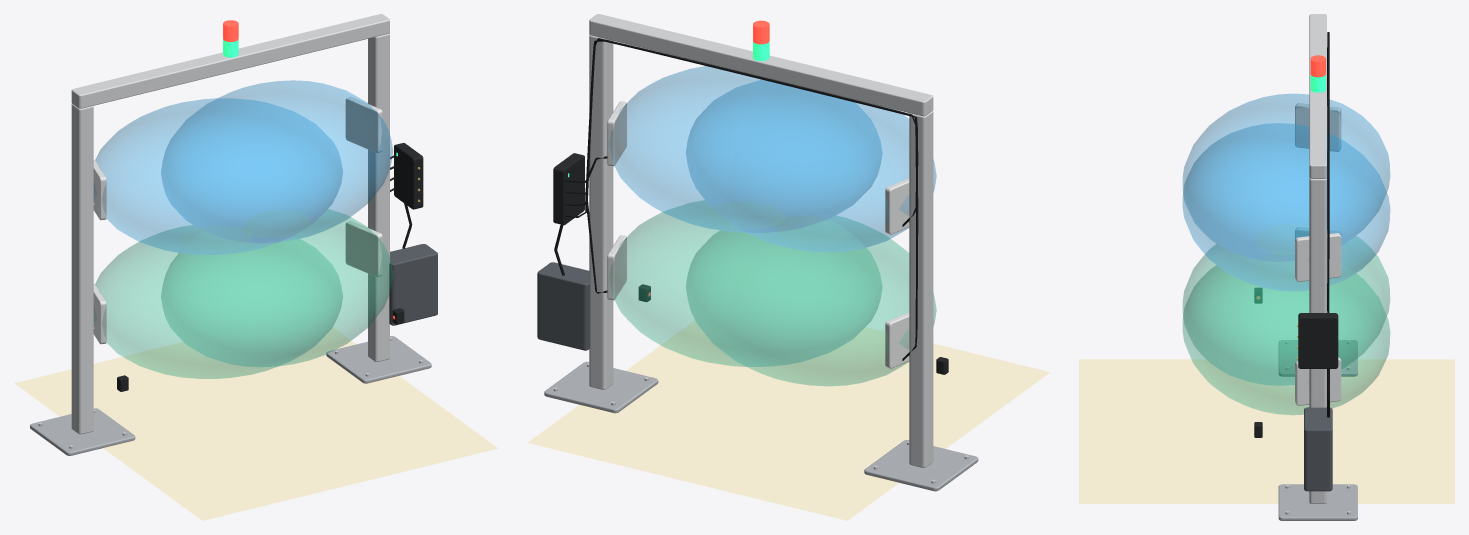
The model's file is p6-Bramka UHF – strefa odczytu.glb.
3 views of the same model, side by side, from view 1: azimuth 30°, elevation 25°; view 2: azimuth 150°, elevation 25°; view 3: azimuth 270°, elevation 25° (orthographic). The views are drawn at different scales.
Visible parts, largest first — view 1: Strefa odczytu (przybliżona), 2. Słup lewy, 4. Belka górna, 2. Słup prawy, Antena panelowa UHF (polaryzacja kołowa) (×4), 6. Skrzynka sterująca (zasilacz, PLC, sieć), 1. Podstawa lewa, 1. Podstawa prawa, 5. Czytnik UHF (4 porty), 9. Lampa sygnalizacyjna; view 2: Strefa odczytu (przybliżona), 2. Słup lewy, 4. Belka górna, 2. Słup prawy, Antena panelowa UHF (polaryzacja kołowa) (×4), 6. Skrzynka sterująca (zasilacz, PLC, sieć), 7. Kable antenowe (koncentryczne), 1. Podstawa lewa, 1. Podstawa prawa, 5. Czytnik UHF (4 porty), 9. Lampa sygnalizacyjna; view 3: Strefa odczytu (przybliżona), Antena panelowa UHF (polaryzacja kołowa) (×3), 2. Słup prawy, 1. Podstawa prawa, 4. Belka górna, 6. Skrzynka sterująca (zasilacz, PLC, sieć), 5. Czytnik UHF (4 porty), 1. Podstawa lewa, 7. Kable antenowe (koncentryczne), 9. Lampa sygnalizacyjna.
Boxes of the visible parts, x1,y1,x2,y2 form: Strefa odczytu (przybliżona): (15,80,497,520); 2. Słup lewy: (71,104,93,434); 4. Belka górna: (71,14,389,108); 2. Słup prawy: (368,33,389,362); Antena panelowa UHF (polaryzacja kołowa) (×4): (93,97,382,344); 6. Skrzynka sterująca (zasilacz, PLC, sieć): (389,244,437,325); 1. Podstawa lewa: (30,408,135,455); 1. Podstawa prawa: (326,336,431,383); 5. Czytnik UHF (4 porty): (394,143,423,209); 9. Lampa sygnalizacyjna: (223,20,238,57); Strefa odczytu (przybliżona): (528,66,1049,520); 2. Słup lewy: (909,111,933,467); 4. Belka górna: (589,14,933,116); 2. Słup prawy: (589,35,613,389); Antena panelowa UHF (polaryzacja kołowa) (×4): (607,101,909,368); 6. Skrzynka sterująca (zasilacz, PLC, sieć): (537,262,589,350); 7. Kable antenowe (koncentryczne): (554,38,918,360); 1. Podstawa lewa: (864,440,978,491); 1. Podstawa prawa: (544,361,658,413); 5. Czytnik UHF (4 porty): (553,153,584,225); 9. Lampa sygnalizacyjna: (753,20,769,61); Strefa odczytu (przybliżona): (1079,94,1454,503); Antena panelowa UHF (polaryzacja kołowa) (×3): (1295,103,1341,405); 2. Słup prawy: (1309,178,1326,503); 1. Podstawa prawa: (1278,484,1357,520); 4. Belka górna: (1309,14,1326,178); 6. Skrzynka sterująca (zasilacz, PLC, sieć): (1304,407,1332,491); 5. Czytnik UHF (4 porty): (1297,313,1338,368); 1. Podstawa lewa: (1279,340,1357,376); 7. Kable antenowe (koncentryczne): (1327,32,1329,417); 9. Lampa sygnalizacyjna: (1310,55,1325,92).
Size of the model in its own units: 2.59 by 2.42 by 2.2.
